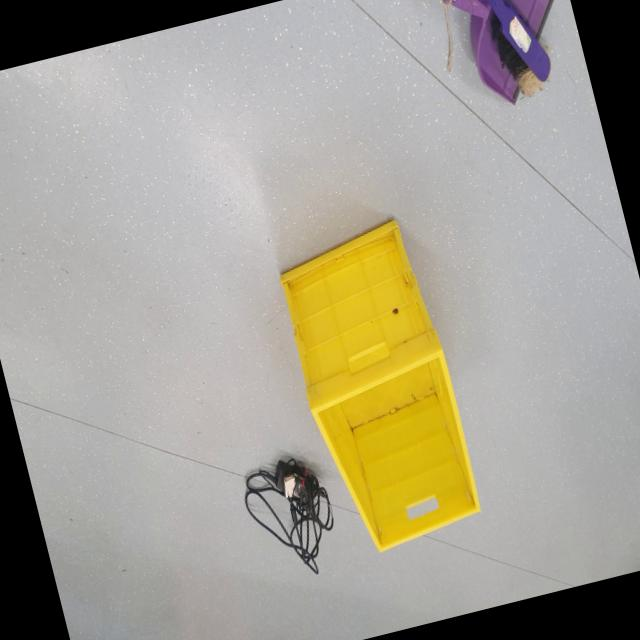box: (260, 197, 498, 580)
